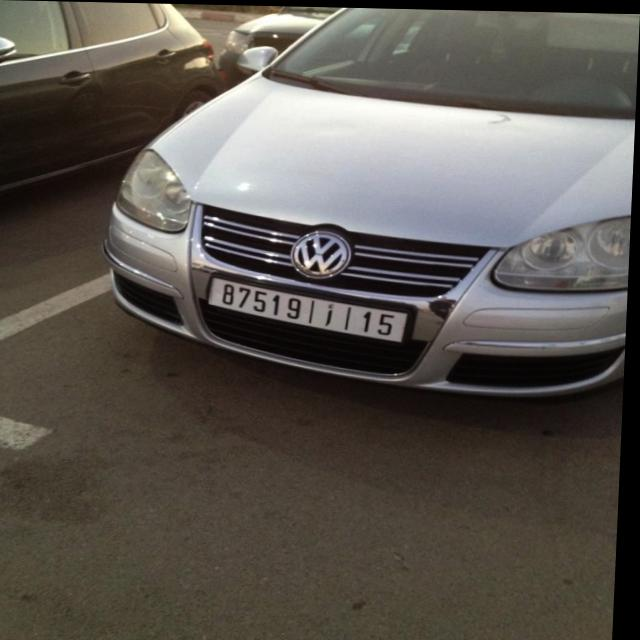License-Plate: (211, 277, 411, 340)
